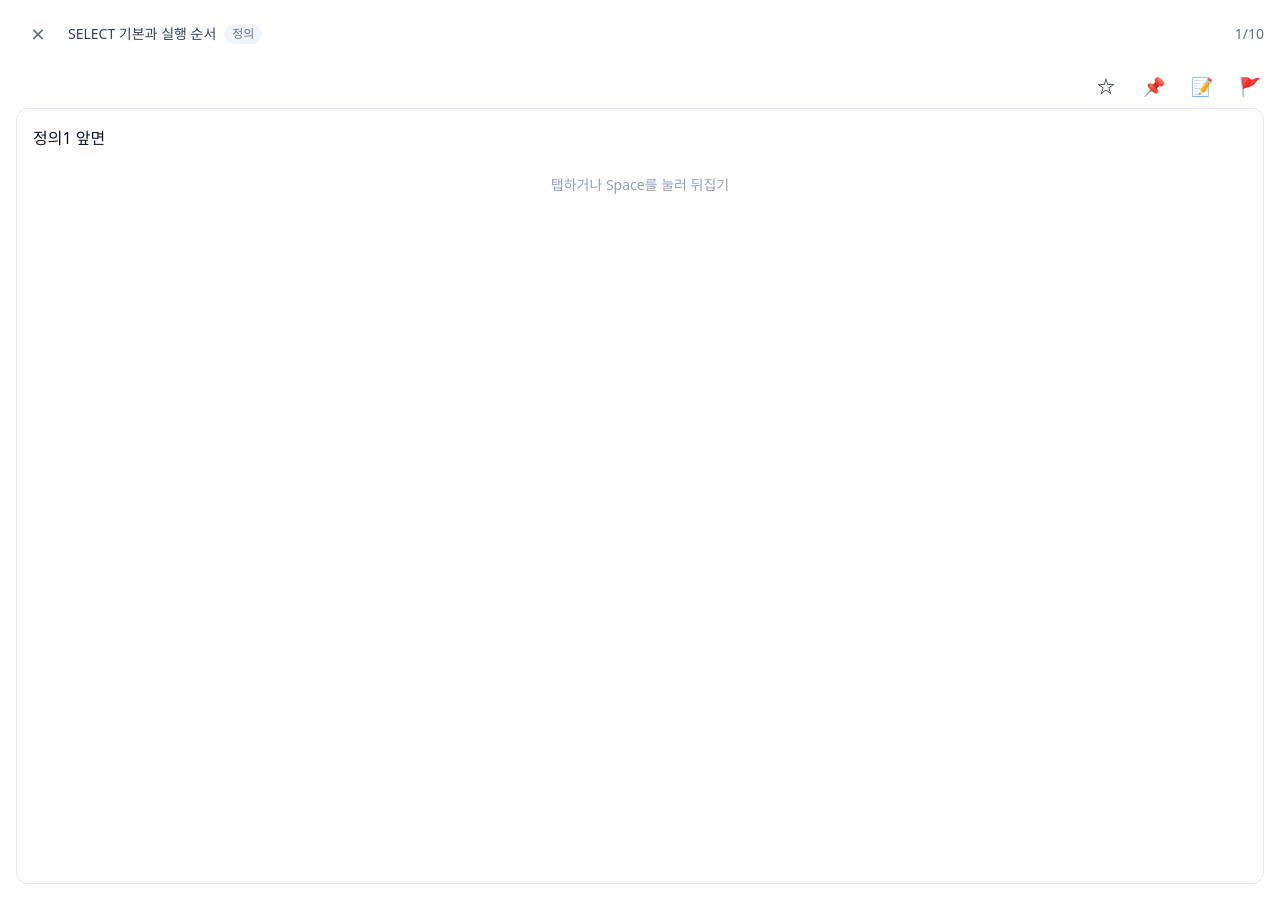
Test: StudyPage - 단원 학습 세션 › 틀림 카드는 같은 세션에서 다시 나온다(requeue)
expect the text "1/10" is shown: met, box [1235,24,1264,44]
Click the text "정의1 앞면". click: (69, 138)
box: [33,127,105,149]
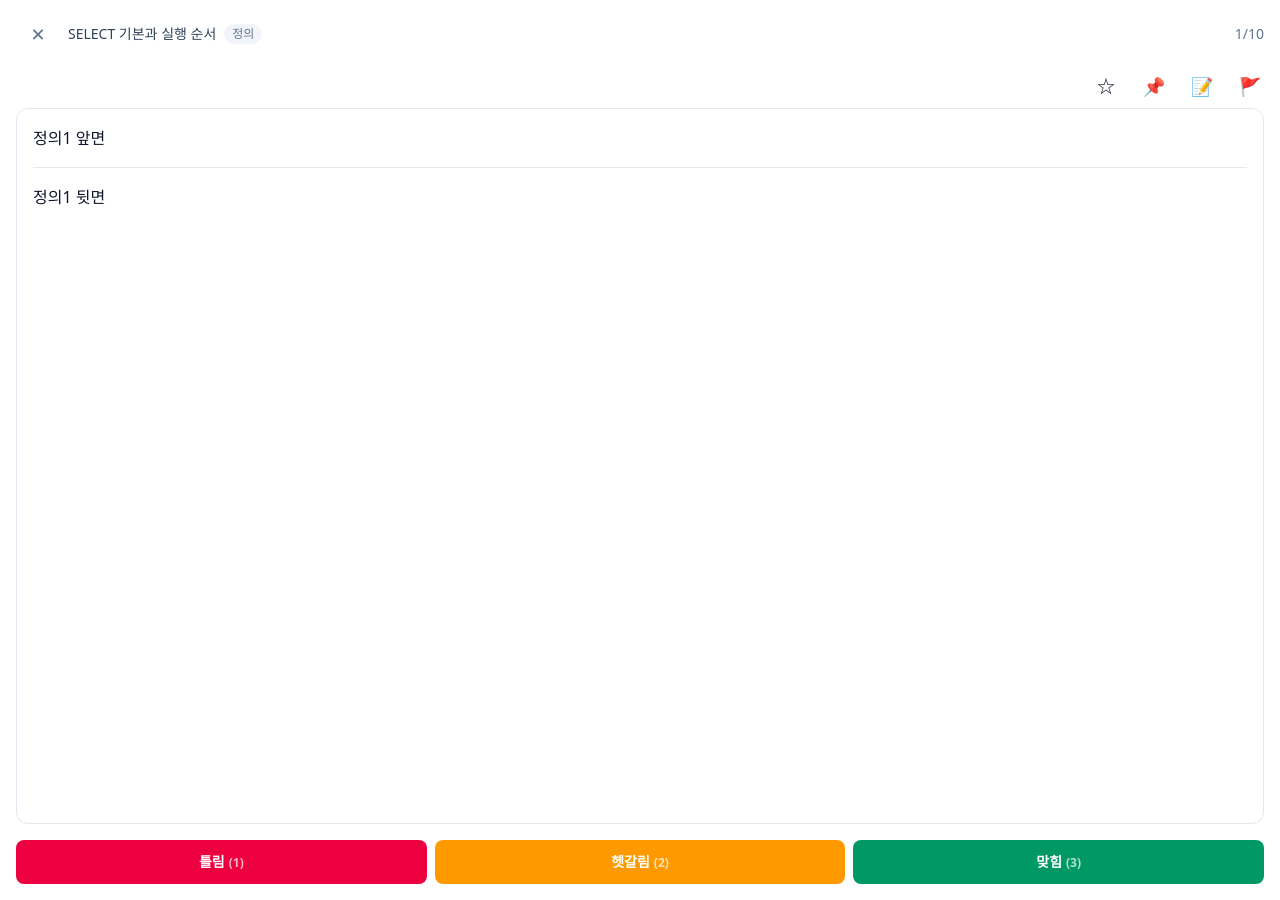
Click the button "틀림(1)". click: (221, 862)
box: [16,840,427,884]
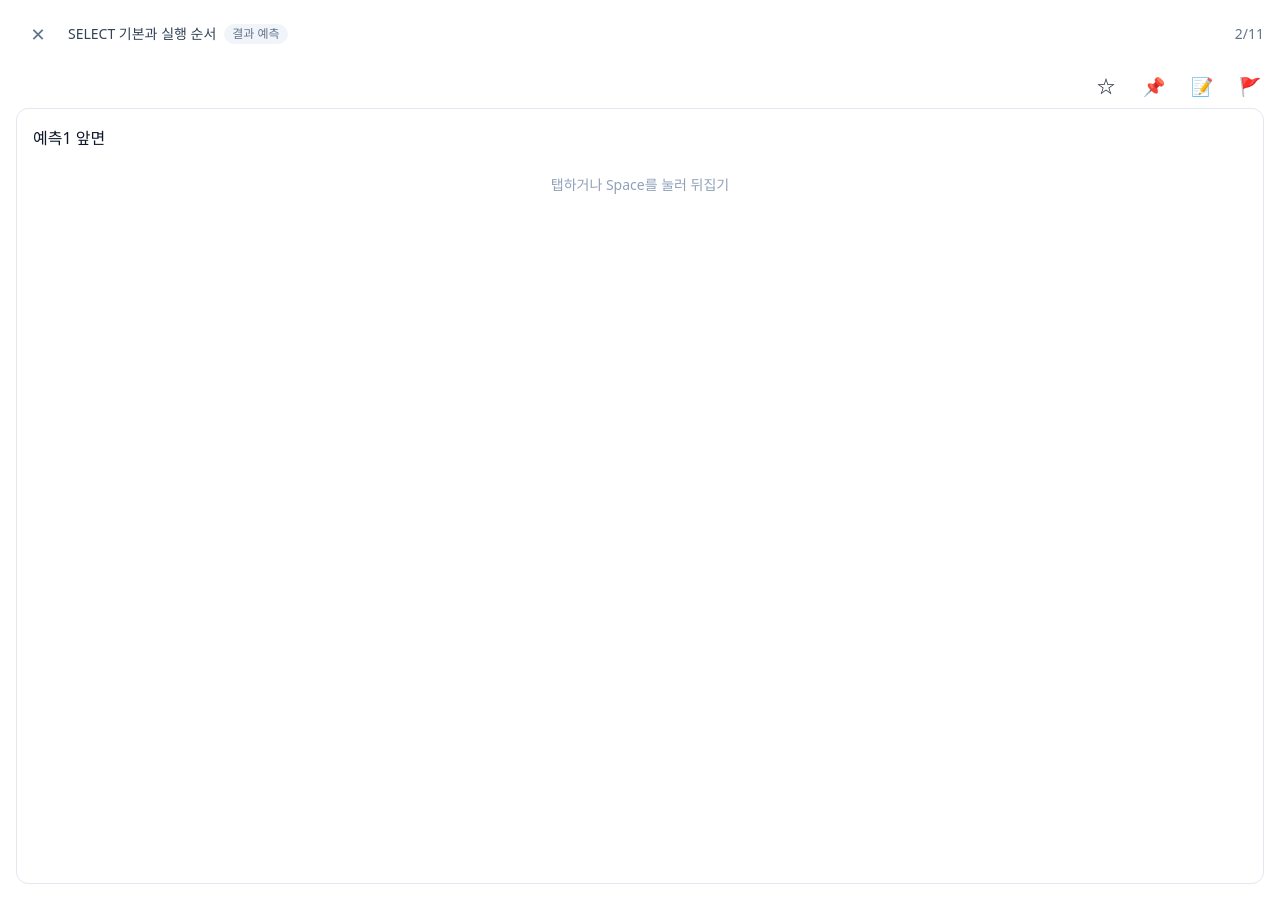
expect the text "2/11" is shown: met, box [1235,24,1264,44]
